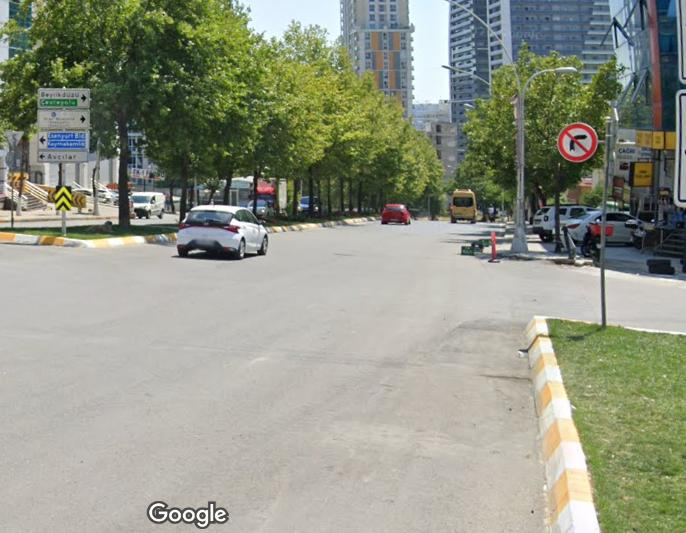rightturnsareforbidden: (556, 121, 600, 162)
